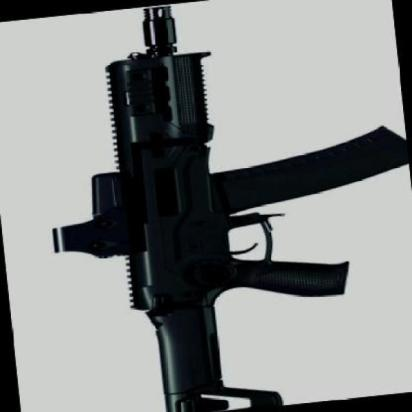Gun: (33, 0, 412, 412)
